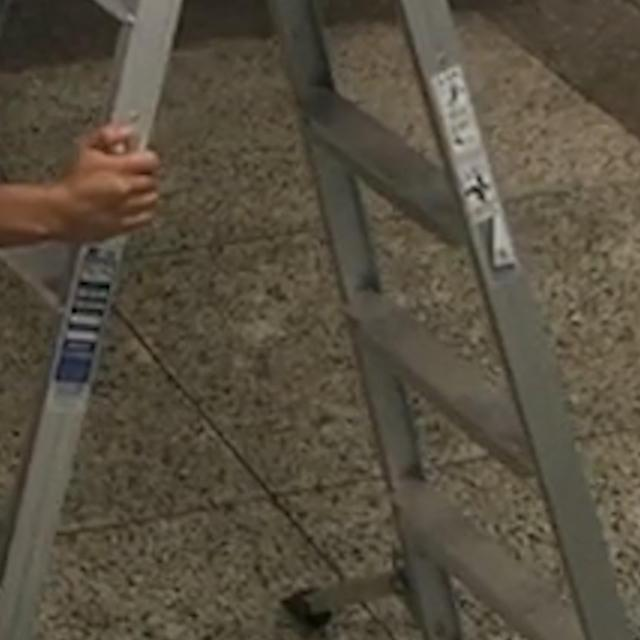Ladder: (0, 0, 640, 640)
Person: (0, 0, 153, 640)
